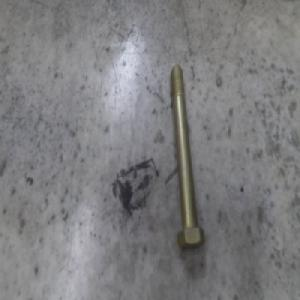Bolt: (170, 67, 206, 251)
